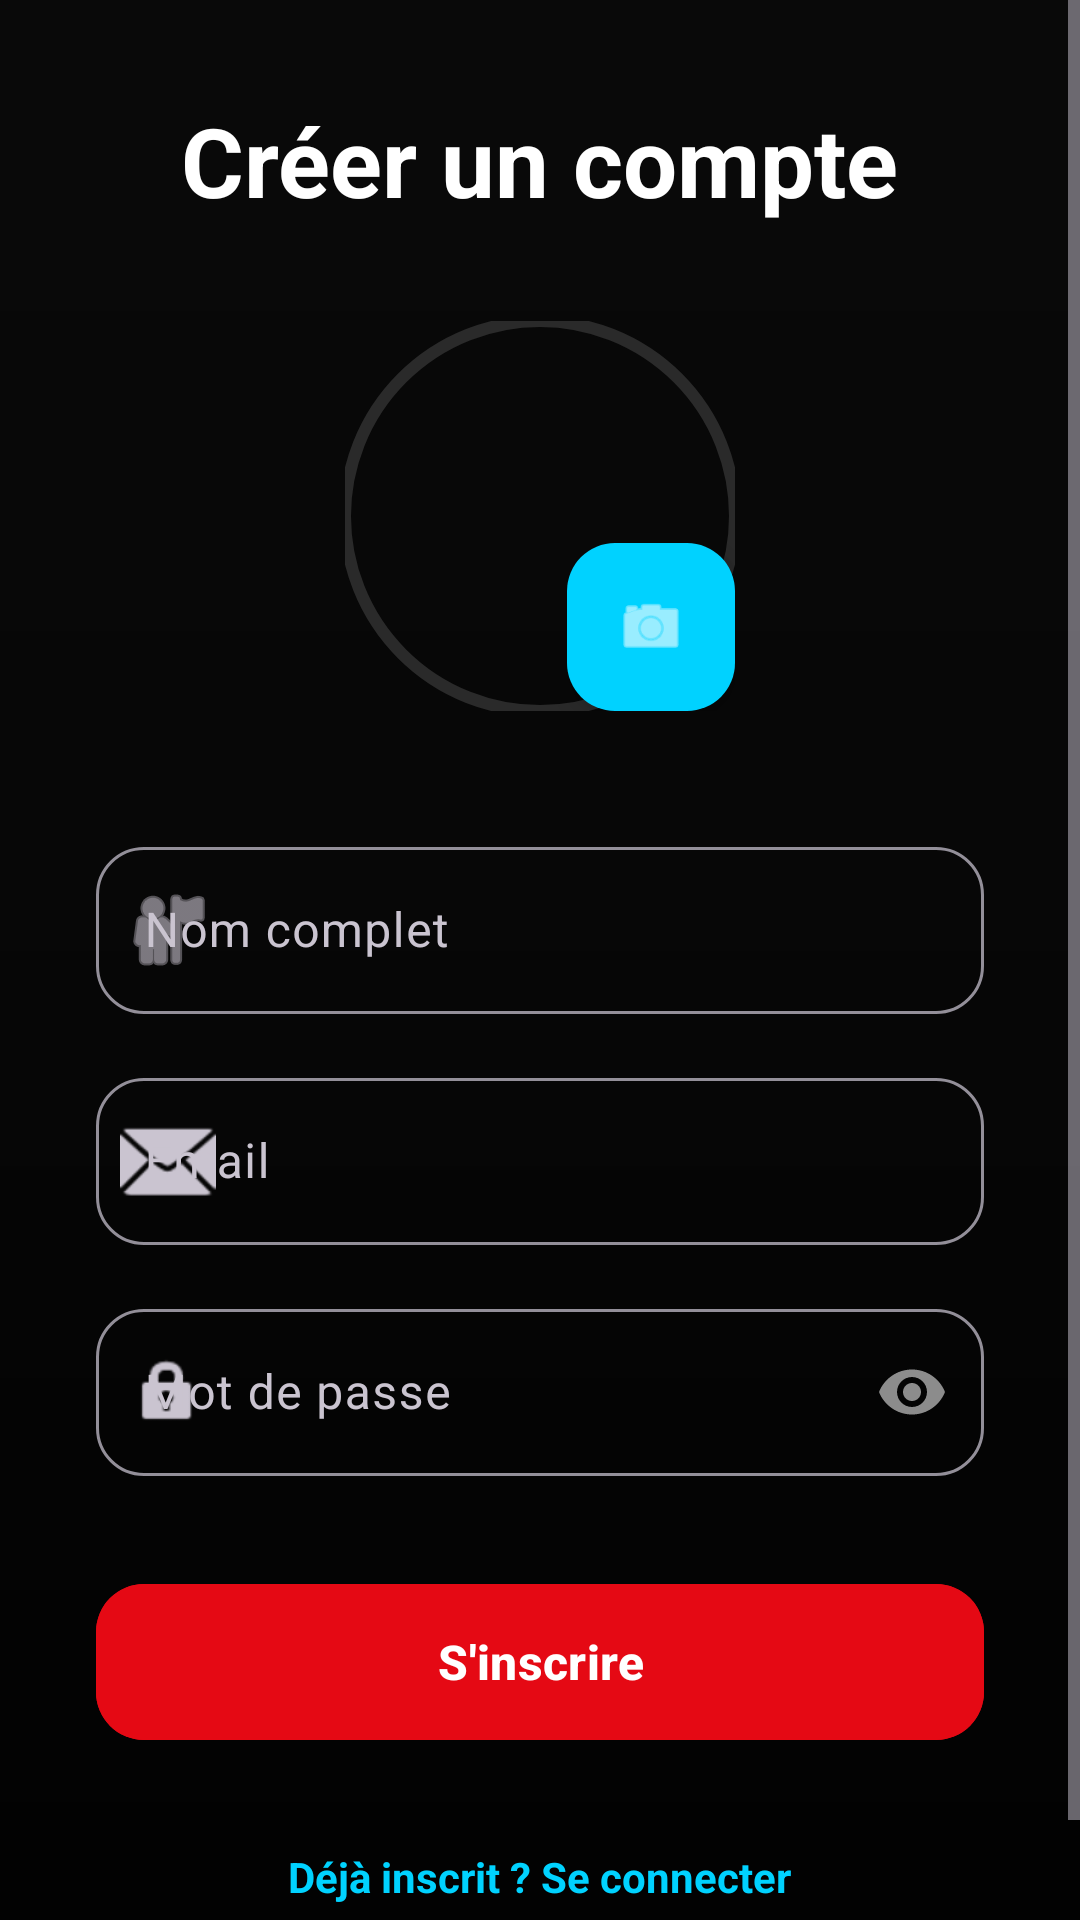

Icons on this 1080 x 1920 Android screen, each with the point to tap as [x,y]:
camera: [651,627]
